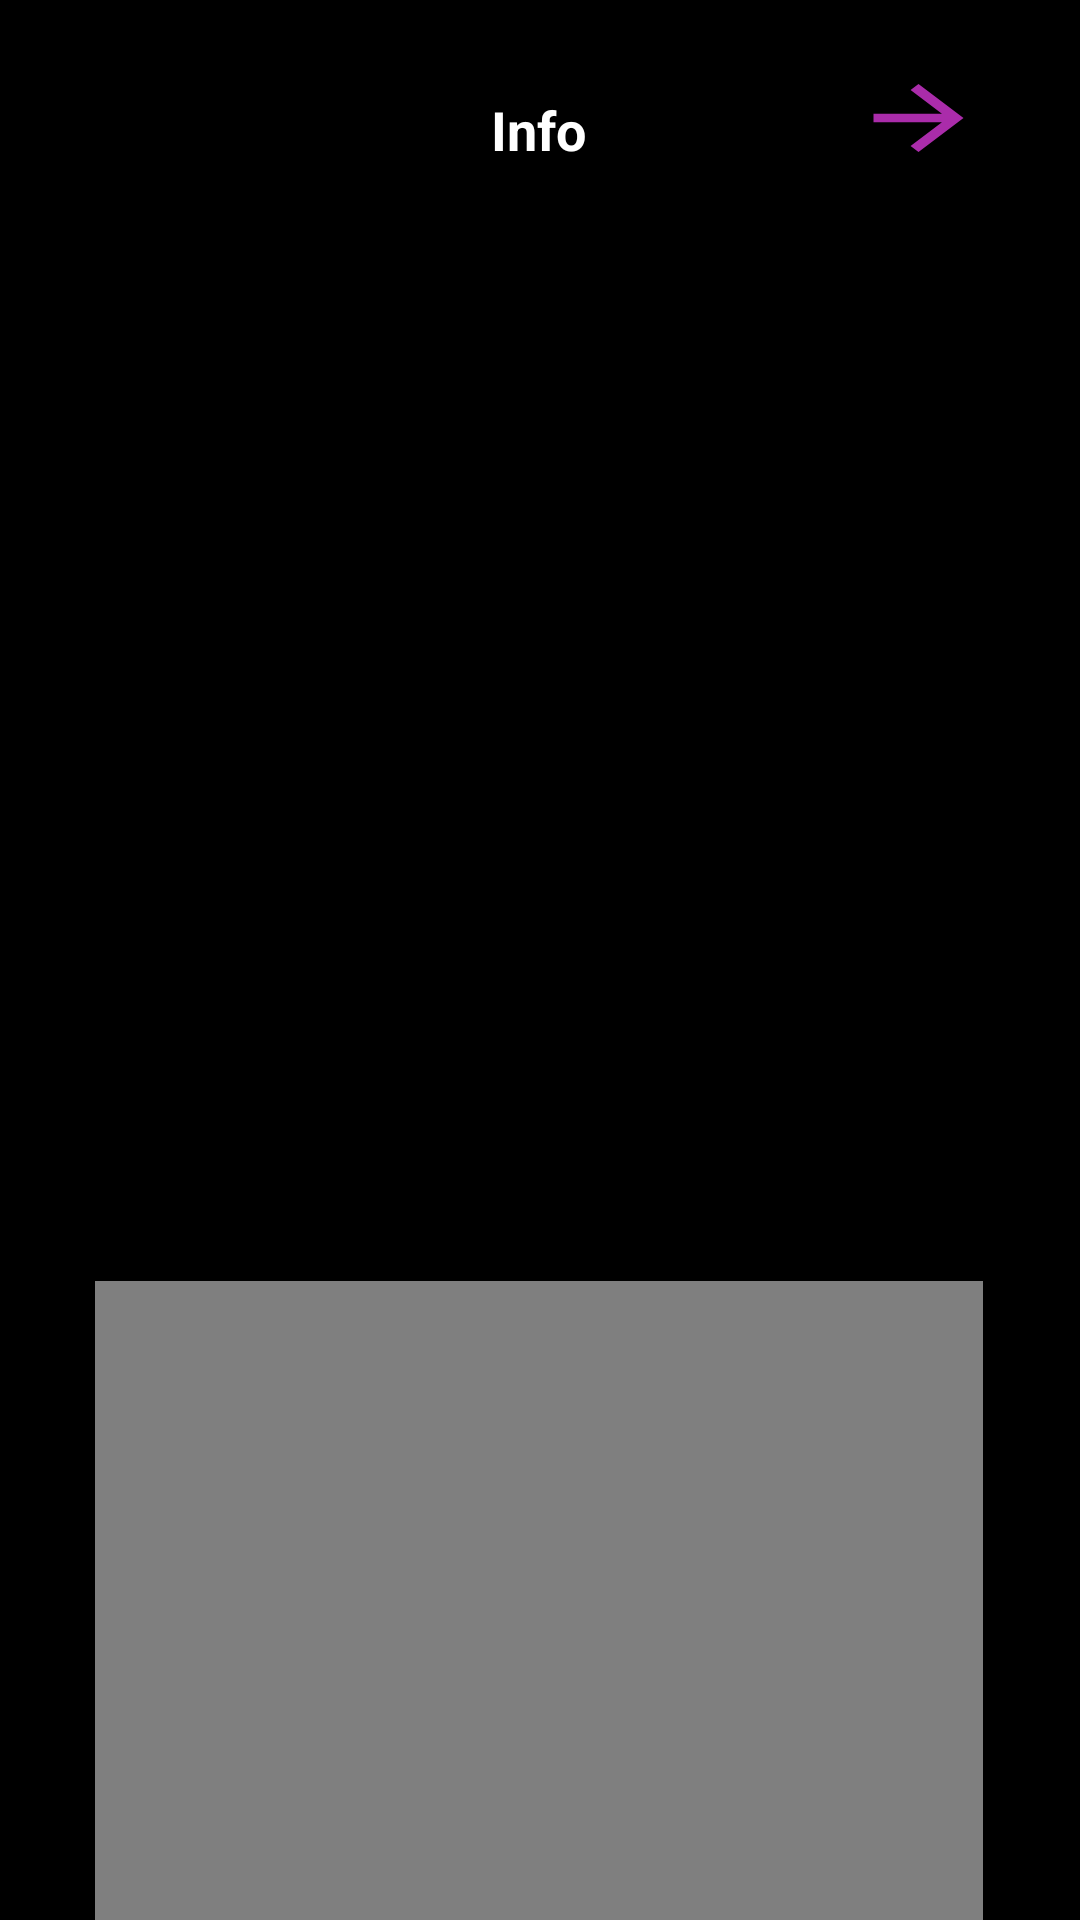

Icons on this 1080w x 1920h Android screen, each with the point to tap as point (x, y):
arrow forward: point (918, 118)
